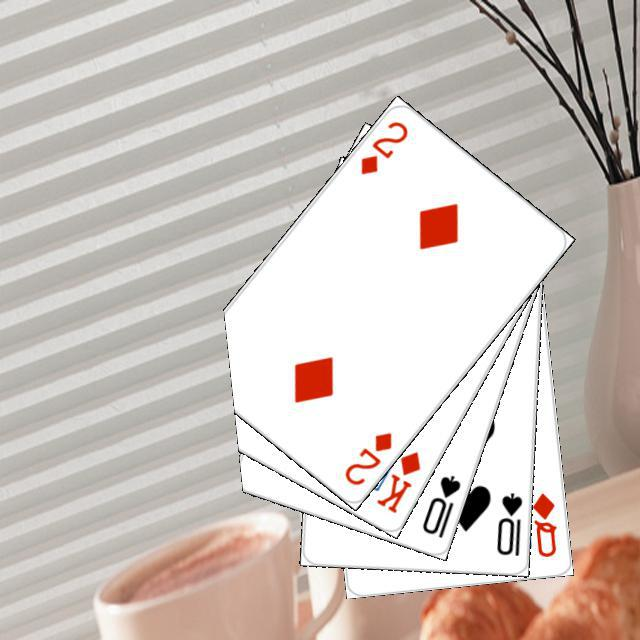10s: (417, 470, 463, 540), (491, 488, 524, 557)
2d: (339, 427, 394, 488), (355, 116, 410, 177)
Kd: (371, 446, 423, 515)
Qd: (528, 488, 558, 559)
